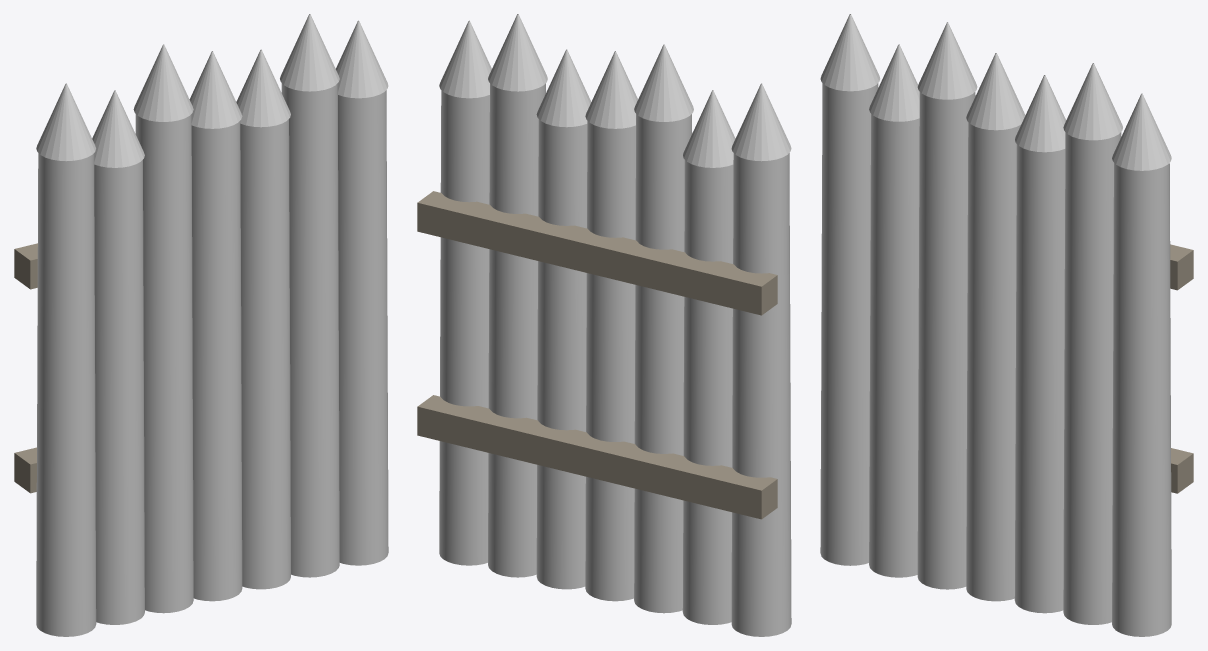
File: gullhaven_fence.glb
The picture shows the model from 3 angles, left to right: view 1: azimuth 30°, elevation 25°; view 2: azimuth 150°, elevation 25°; view 3: azimuth 330°, elevation 25°; orthographic projection.
Visible parts, largest first — view 1: props/MI_Trim_Props, village/MI_WoodTrim; view 2: props/MI_Trim_Props, village/MI_WoodTrim; view 3: props/MI_Trim_Props, village/MI_WoodTrim.
Part boxes in pixels (bbox=[...]): props/MI_Trim_Props: bbox=[36, 14, 388, 636]; village/MI_WoodTrim: bbox=[14, 243, 37, 493]; props/MI_Trim_Props: bbox=[439, 14, 791, 636]; village/MI_WoodTrim: bbox=[417, 191, 777, 519]; props/MI_Trim_Props: bbox=[820, 14, 1171, 636]; village/MI_WoodTrim: bbox=[1170, 244, 1193, 493].
Bounding box in the file's own units: 2.12 × 3.27 × 0.4351.
